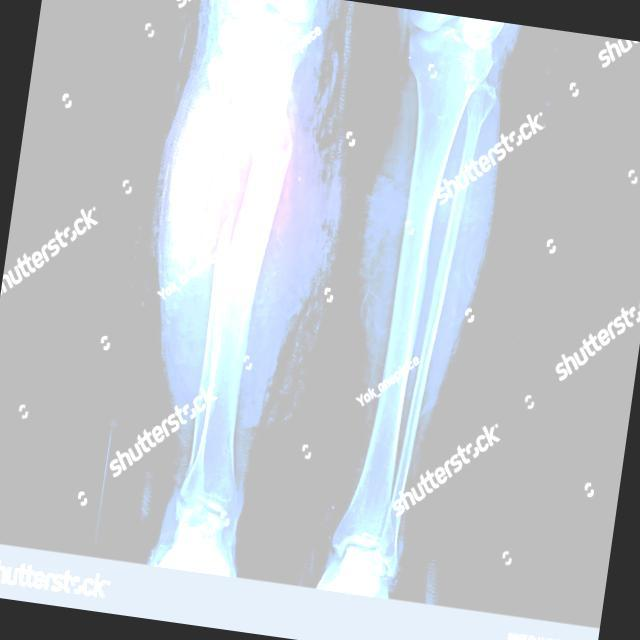Comminuted Fracture: (166, 151, 279, 230), (186, 228, 268, 286)
